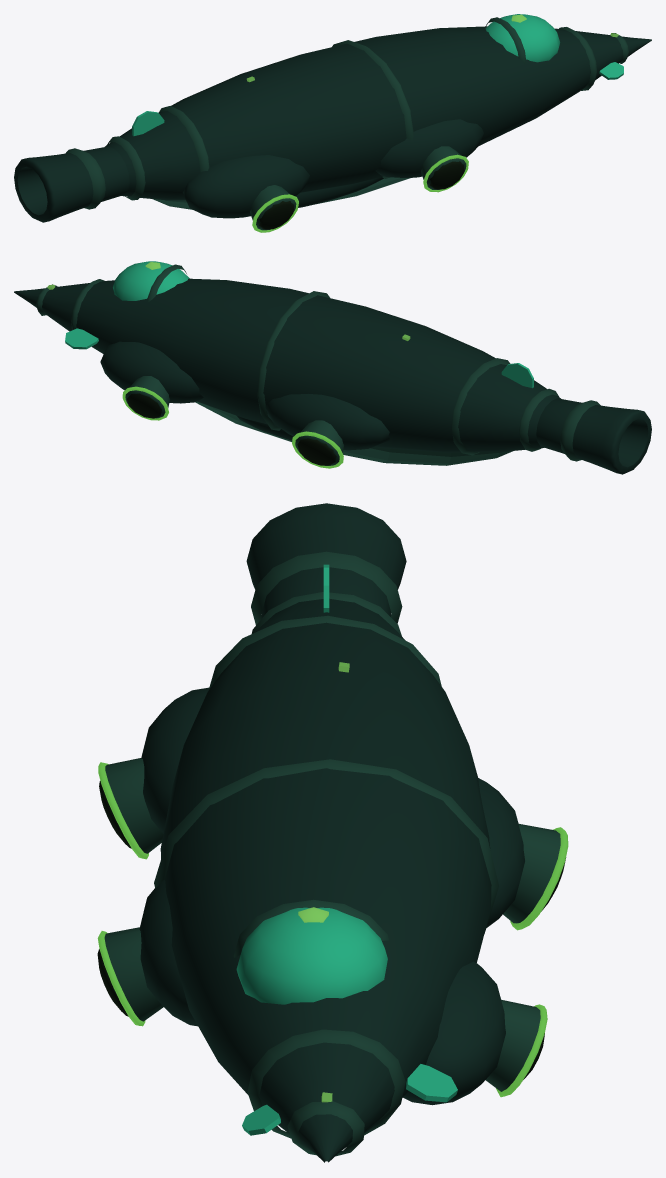
Rendered from verger-pelagia.glb.
3 views of the same model, one above another, from view 1: azimuth 30°, elevation 25°; view 2: azimuth 150°, elevation 25°; view 3: azimuth 270°, elevation 25° (orthographic). The views are drawn at different scales.
Visible parts, largest first — view 1: pod_body, siphon_duct, cargo_lobe_s0, cargo_lobe_s2, listening_dome, growth_ring_2, ballast_bladder_s, siphon_ring, growth_ring_1, hatch_s0_ring, hatch_s2_door, growth_ring_0 (+8 smaller); view 2: pod_body, siphon_duct, cargo_lobe_p1, cargo_lobe_p3, keel, listening_dome, growth_ring_2, growth_ring_1, siphon_ring, hatch_p1_ring, hatch_p1_door, hatch_p3_ring (+9 smaller); view 3: pod_body, listening_dome, siphon_duct, cargo_lobe_p3, growth_ring_2, cargo_lobe_s0, cargo_lobe_s2, cargo_lobe_p1, growth_ring_3, siphon_ring, hatch_p1_ring, hatch_s0_ring (+8 smaller).
Part boxes in pixels (left/top/right/bottom): pod_body: left=105, top=26, right=651, bottom=200; siphon_duct: left=14, top=146, right=129, bottom=222; cargo_lobe_s0: left=183, top=155, right=309, bottom=218; cargo_lobe_s2: left=375, top=119, right=483, bottom=177; listening_dome: left=485, top=14, right=560, bottom=62; growth_ring_2: left=332, top=40, right=413, bottom=178; ballast_bladder_s: left=296, top=176, right=383, bottom=207; siphon_ring: left=65, top=148, right=105, bottom=209; growth_ring_1: left=159, top=106, right=209, bottom=200; hatch_s0_ring: left=250, top=185, right=296, bottom=230; hatch_s2_door: left=429, top=161, right=464, bottom=189; growth_ring_0: left=107, top=136, right=145, bottom=200; pod_body: left=14, top=278, right=560, bottom=452; siphon_duct: left=536, top=398, right=651, bottom=474; cargo_lobe_p1: left=265, top=394, right=389, bottom=449; cargo_lobe_p3: left=100, top=341, right=203, bottom=403; keel: left=195, top=401, right=512, bottom=465; listening_dome: left=113, top=261, right=189, bottom=300; growth_ring_2: left=257, top=291, right=329, bottom=430; growth_ring_1: left=451, top=358, right=510, bottom=455; siphon_ring: left=560, top=400, right=600, bottom=461; hatch_p1_ring: left=295, top=420, right=343, bottom=465; hatch_p1_door: left=297, top=438, right=336, bottom=465; hatch_p3_ring: left=125, top=376, right=169, bottom=418; pod_body: left=160, top=598, right=491, bottom=1162; listening_dome: left=236, top=907, right=387, bottom=1004; siphon_duct: left=246, top=503, right=406, bottom=617; cargo_lobe_p3: left=403, top=961, right=505, bottom=1105; growth_ring_2: left=154, top=759, right=498, bottom=933; cargo_lobe_s0: left=141, top=687, right=209, bottom=833; cargo_lobe_s2: left=139, top=880, right=197, bottom=1026; cargo_lobe_p1: left=478, top=778, right=524, bottom=927; growth_ring_3: left=247, top=1029, right=405, bottom=1138; siphon_ring: left=251, top=551, right=402, bottom=624; hatch_p1_ring: left=503, top=824, right=560, bottom=923; hatch_s0_ring: left=105, top=758, right=163, bottom=853.
Bounding box in the file's own units: 100 × 22.38 × 32.94.
